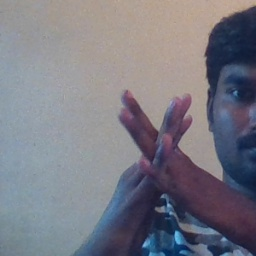W: (104, 81, 219, 237)
